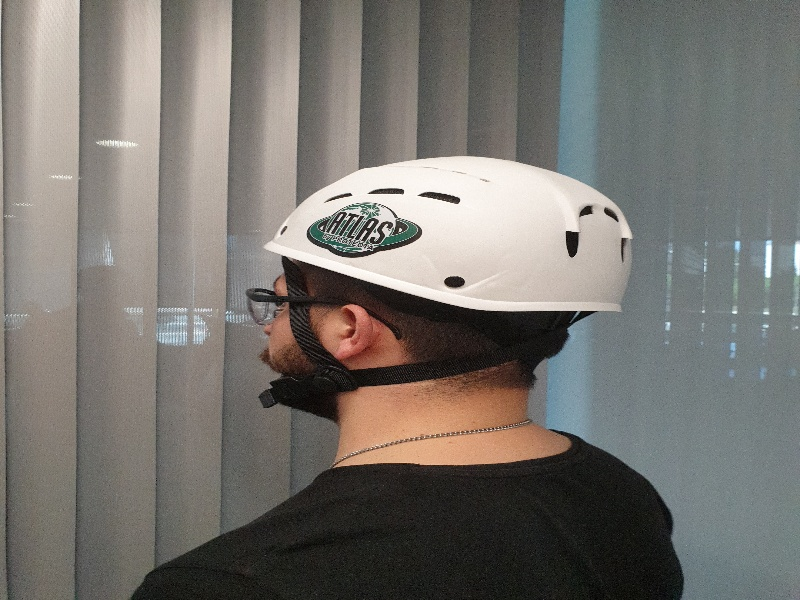Baret: (265, 157, 635, 312)
Gozluk: (246, 287, 335, 324)
